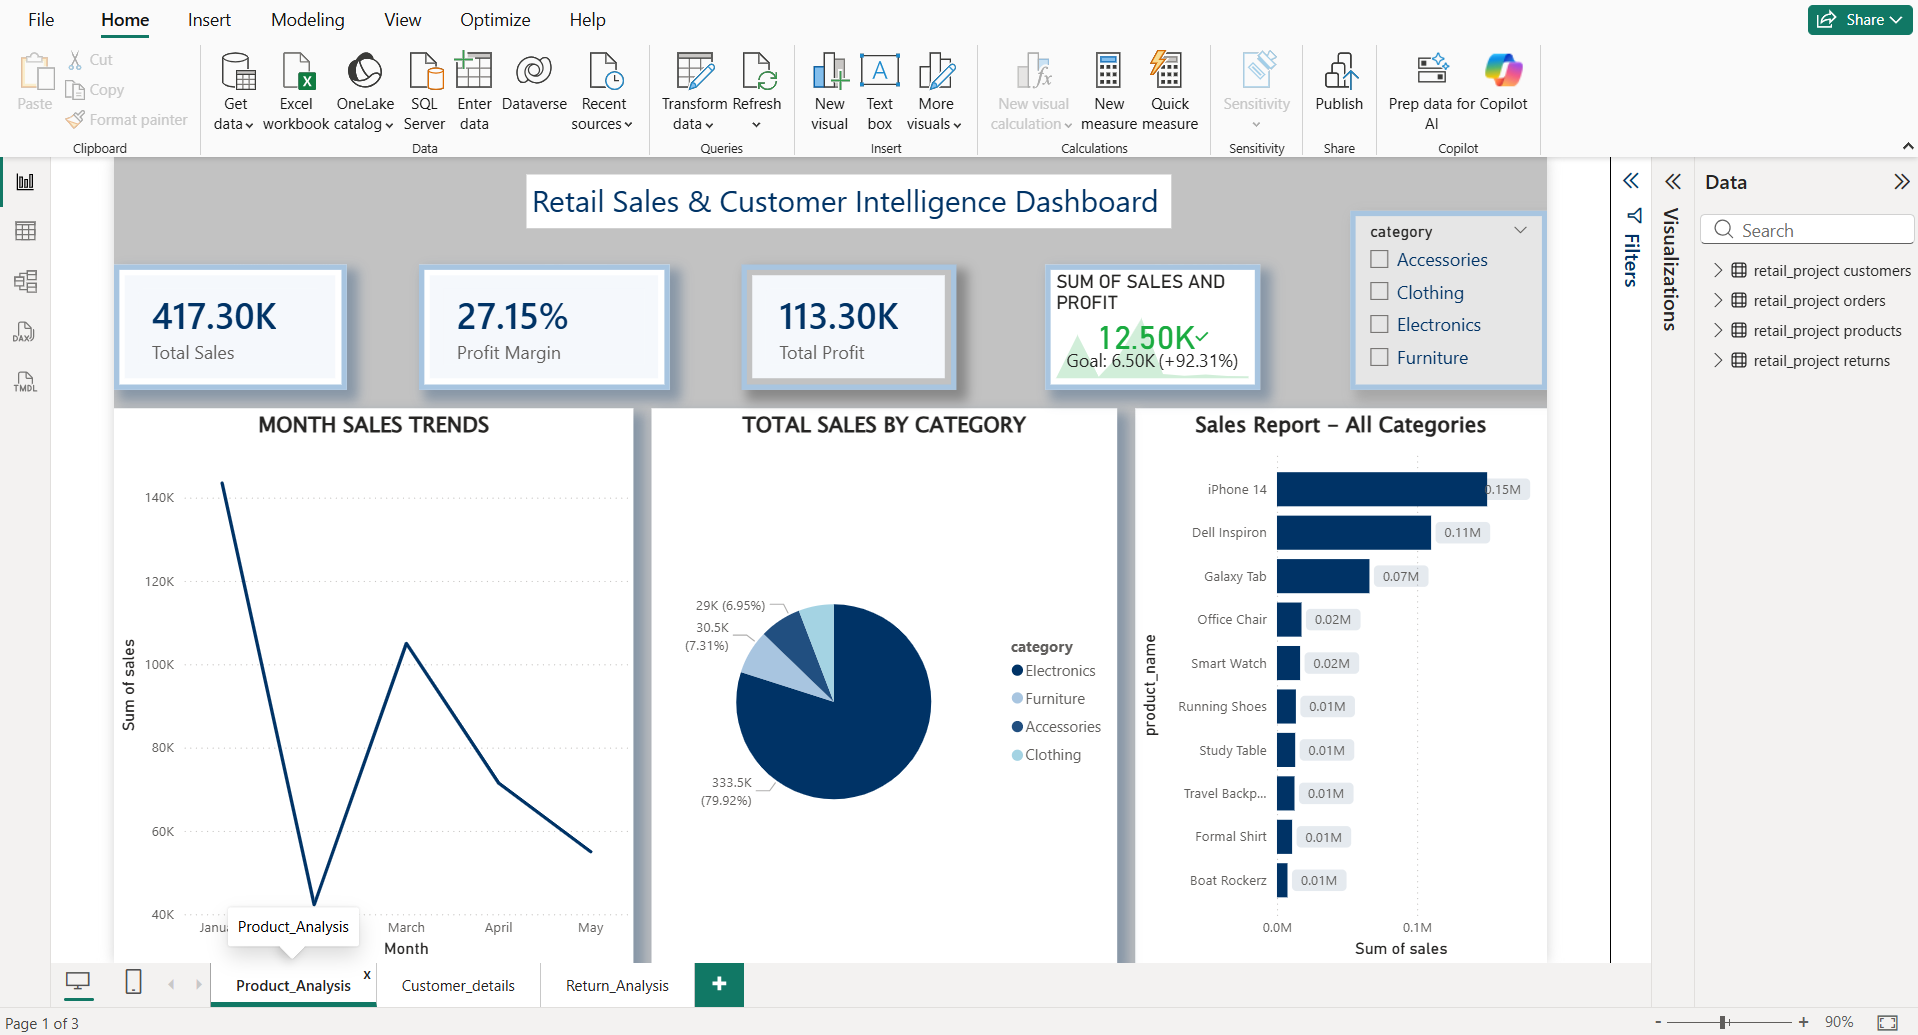

Layout of this report page (visuals, bound fields, positions):
{"tool":"powerbi","page":{"name":"Page 1","canvas":[1280,720],"ordinal":0},"visuals":[{"type":"cardVisual","fields":{"Data":["retail_project orders.Total Sales"]},"box":[0,16,208,160],"z":0},{"type":"cardVisual","fields":{"Data":["retail_project orders.Profit Margin"]},"box":[208,16,208,160],"z":1000},{"type":"lineChart","title":"MONTH SALES TRENDS","fields":{"Category":["retail_project orders.order_date.Variation.Date Hierarchy.Month"],"Y":["Sum(retail_project orders.sales)"]},"box":[0,224,464,496],"z":2000},{"type":"clusteredBarChart","fields":{"Category":["retail_project products.product_name"],"Y":["Sum(retail_project orders.sales)"]},"box":[912,224,368,496],"z":3000},{"type":"pieChart","title":"TOTAL SALES BY CATEGORY","fields":{"Category":["retail_project products.category"],"Y":["Sum(retail_project orders.sales)"]},"box":[480,224,416,496],"z":4000},{"type":"slicer","fields":{"Values":["retail_project products.category"]},"box":[848,16,176,160],"z":5000},{"type":"cardVisual","fields":{"Data":["retail_project orders.Total Profit"]},"box":[416,16,208,160],"z":5001},{"type":"kpi","title":"SUM OF SALES AND PROFIT","fields":{"TrendLine":["retail_project products.product_name"],"Indicator":["Sum(retail_project orders.sales)"],"Goal":["Sum(retail_project orders.profit)"]},"box":[640,16,192,160],"z":5003},{"type":"actionButton","box":[880,192,160,32],"z":5004},{"type":"textbox","box":[1040,16,240,208],"z":5005}]}

Visuals, with their boxes on the page's 1280x720 design canvas (x1, y1, x2, y2). These are canvas units, not pixel positions in the 1918x1035 screenshot, which may show the page scaled, cropped or inside an application window:
cardVisual - retail_project orders.Total Sales: (0, 16, 208, 176)
cardVisual - retail_project orders.Profit Margin: (208, 16, 416, 176)
"MONTH SALES TRENDS" lineChart: (0, 224, 464, 720)
clusteredBarChart - retail_project products.product_name x Sum(retail_project orders.sales): (912, 224, 1280, 720)
"TOTAL SALES BY CATEGORY" pieChart: (480, 224, 896, 720)
slicer - retail_project products.category: (848, 16, 1024, 176)
cardVisual - retail_project orders.Total Profit: (416, 16, 624, 176)
"SUM OF SALES AND PROFIT" kpi: (640, 16, 832, 176)
actionButton: (880, 192, 1040, 224)
textbox: (1040, 16, 1280, 224)
